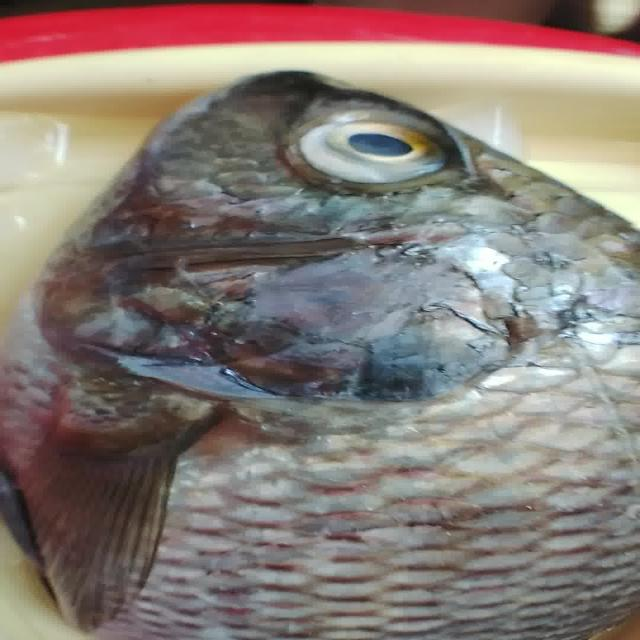Fresh: (12, 277, 640, 640), (268, 81, 498, 218)
